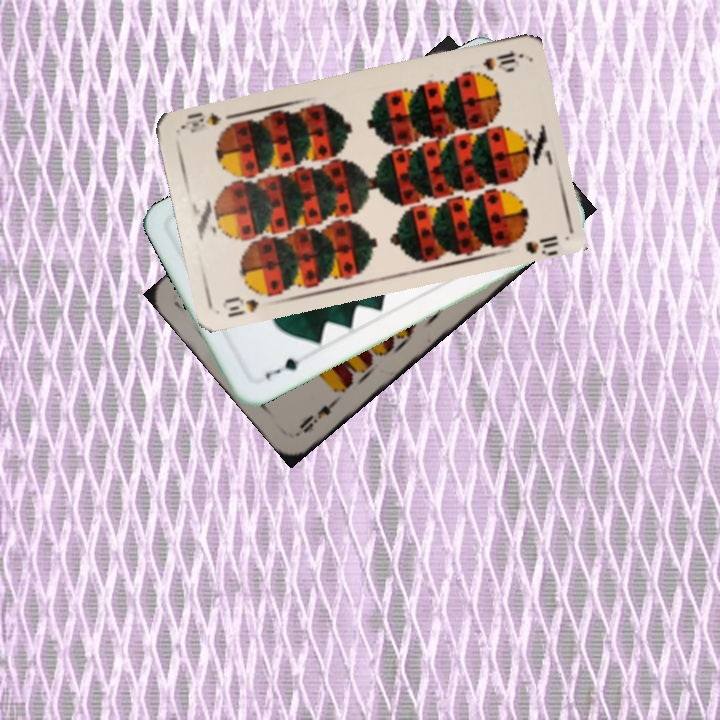E9: (295, 393, 343, 436)
G7: (261, 353, 302, 382)
S10: (218, 286, 276, 320), (479, 47, 522, 73)
